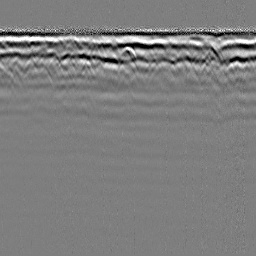cavity: (118, 46, 136, 59)
